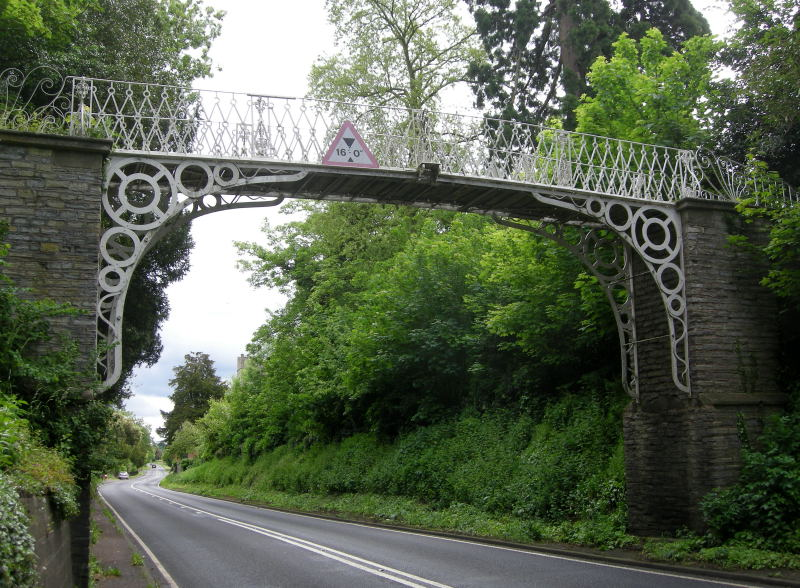bridge: (1, 64, 795, 410)
